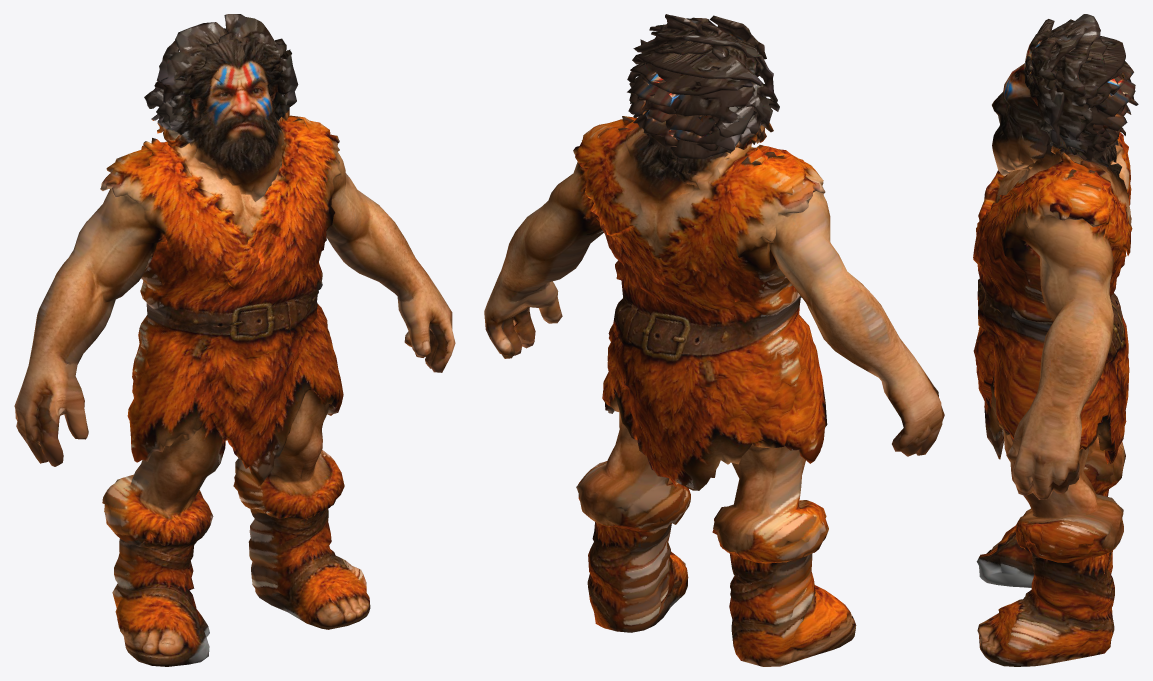
File: hunter.glb
3 views of the same model, side by side, from view 1: azimuth 30°, elevation 25°; view 2: azimuth 150°, elevation 25°; view 3: azimuth 270°, elevation 25° (orthographic). The views are drawn at different scales.
Visible parts, largest first — view 1: geometry_0; view 2: geometry_0; view 3: geometry_0.
Part boxes in pixels (box(x1,y1,x2,y2)): geometry_0: box(14, 14, 455, 666); geometry_0: box(484, 14, 944, 666); geometry_0: box(973, 14, 1138, 666).
Bounding box in the file's own units: 1.36 × 1.8 × 0.4585.
Materials: 1 (1 with a texture image).
